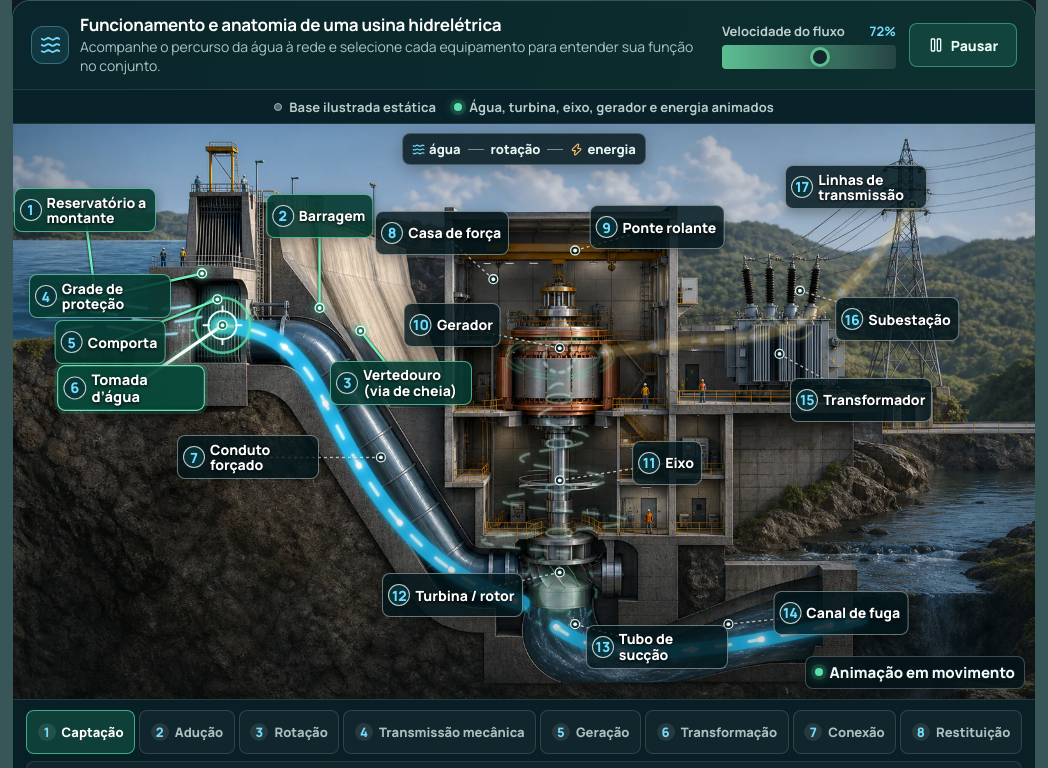
Test case: corte animado da usina hidrelétrica › pausa e retoma todas as camadas pelo controle principal
What coordinates should you click on to do the following:
click the button with class "hec-play"
I would click on:
 (963, 45)
Its box is [909,23,1017,67].
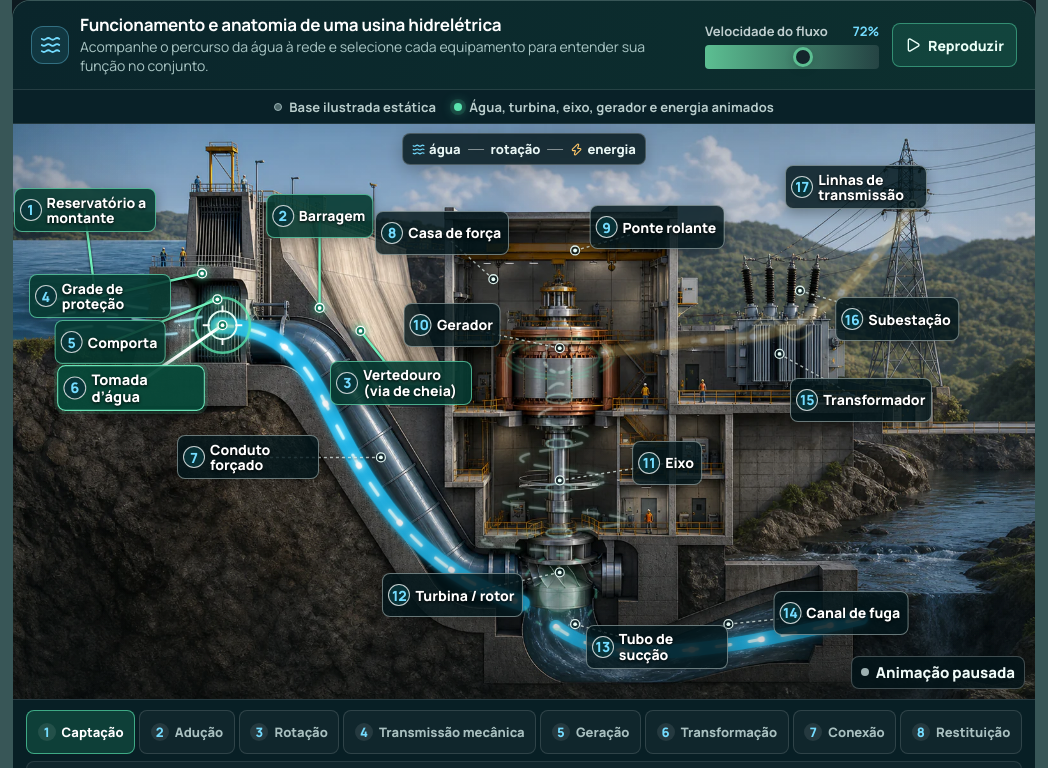
Expected: the button with class "hec-play" reads "Reproduzir"
What coordinates should you click on to do the following:
click the button with class "hec-play"
I would click on:
 (955, 45)
Its box is [892,23,1017,67].
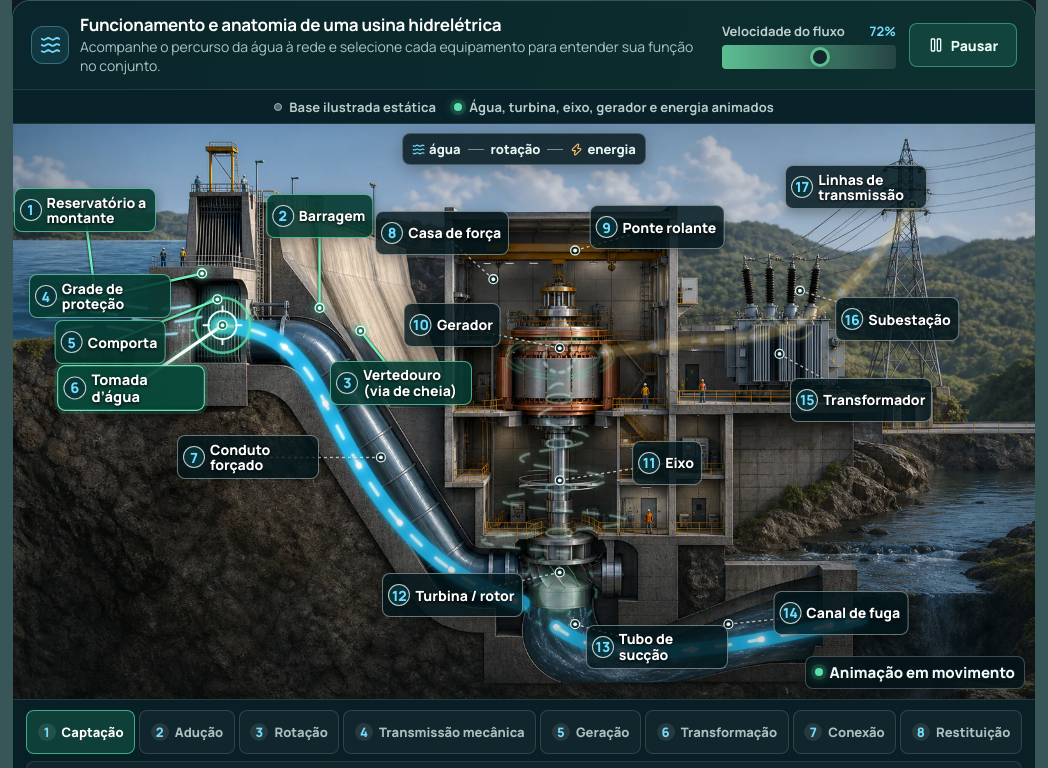
Expected: the button with class "hec-play" reads "Pausar", [909,23,1017,67]
